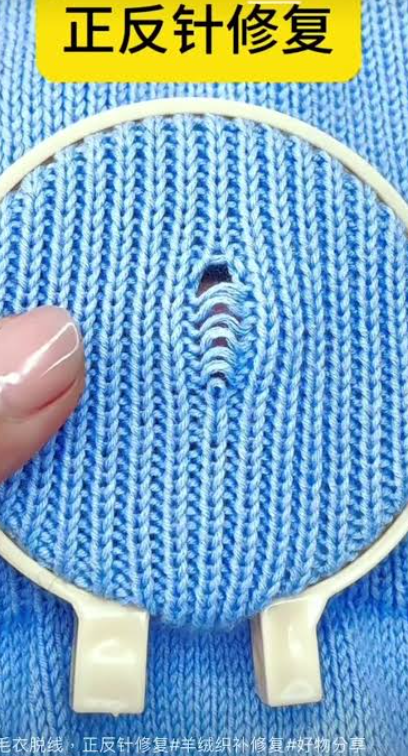missing_stitch_1: (192, 249, 244, 397)
